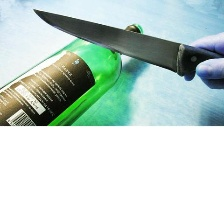bottle: (0, 19, 149, 128)
